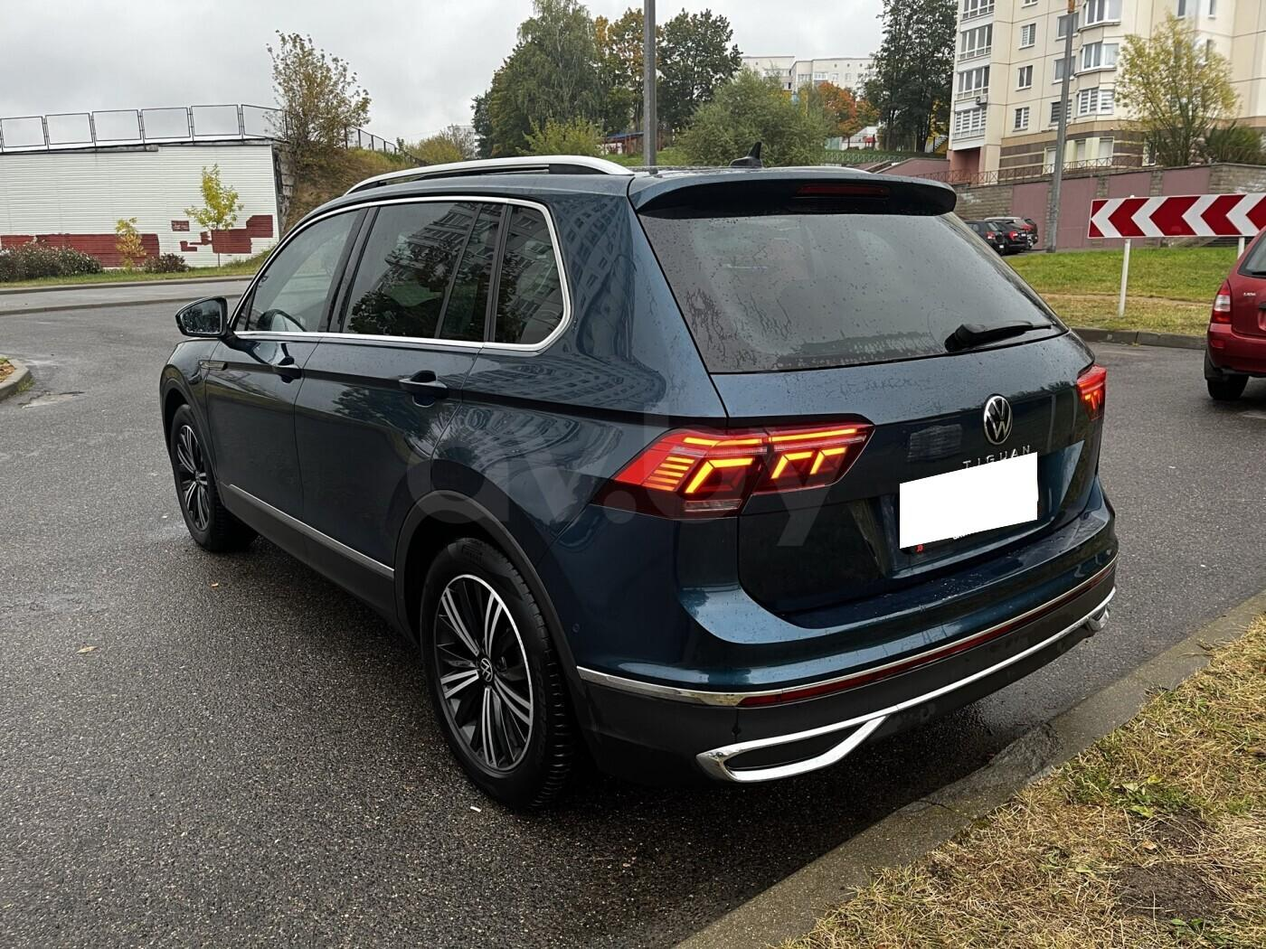Tiguan_2020-2024: (156, 160, 1124, 798)
